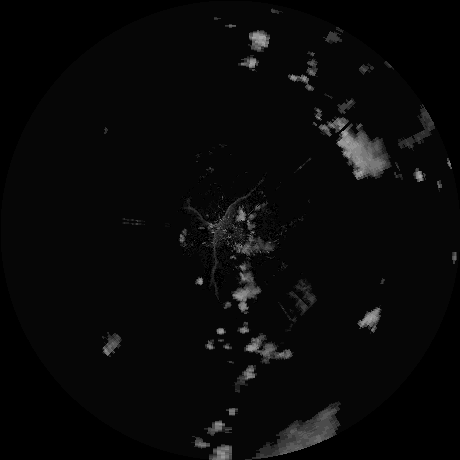frontgust: (209, 190, 250, 279)
